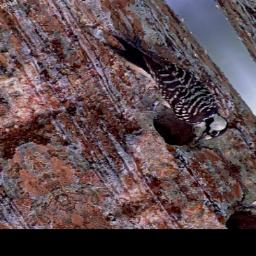Woodpecker: (102, 18, 238, 153)
